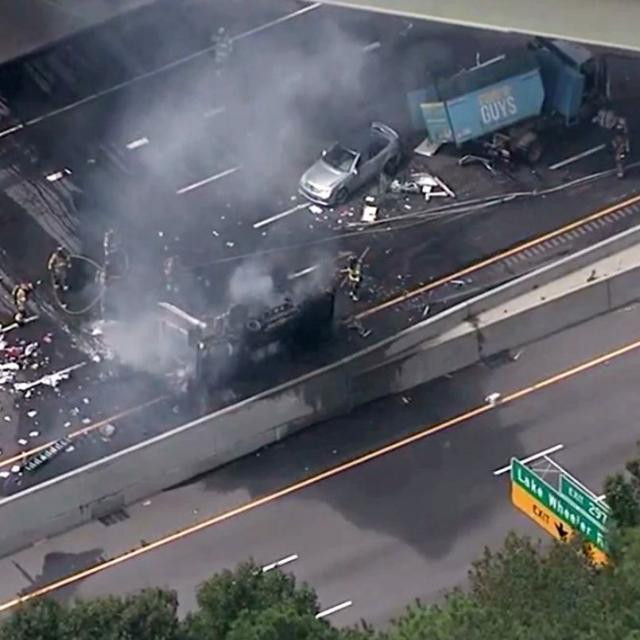traffic_incident: (44, 210, 337, 406), (402, 28, 630, 190)
